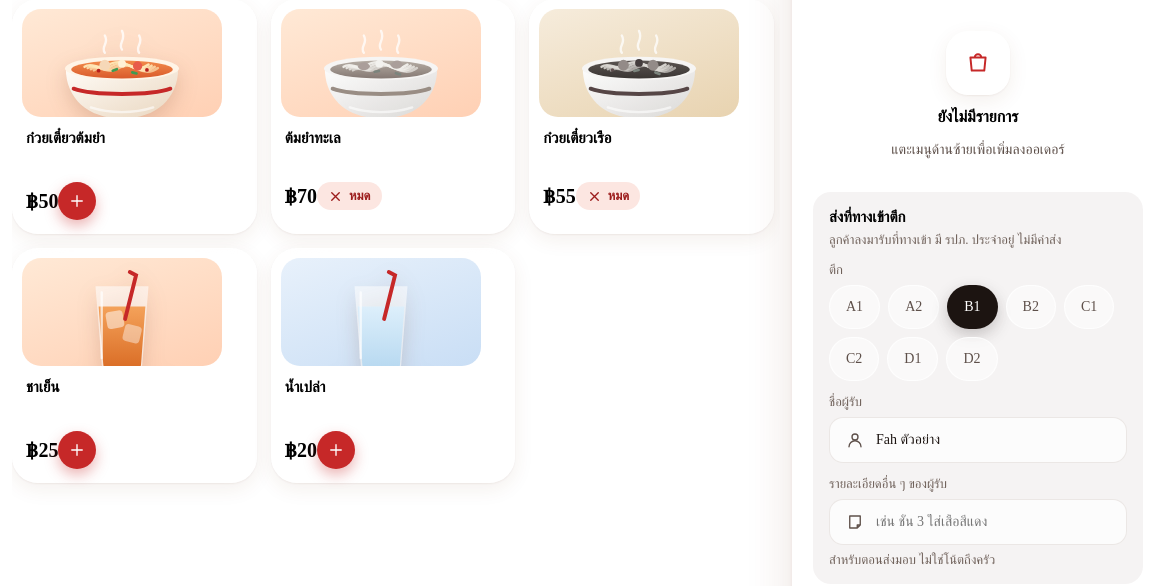
Test case: order entry while offline › when the device cannot save it, says so and keeps the order on screen
This screenshot has width=1164, height=586.
Click the button "ชาเย็น ฿25". click: (134, 366)
box: [12,248,257,483]
(page scrolled)
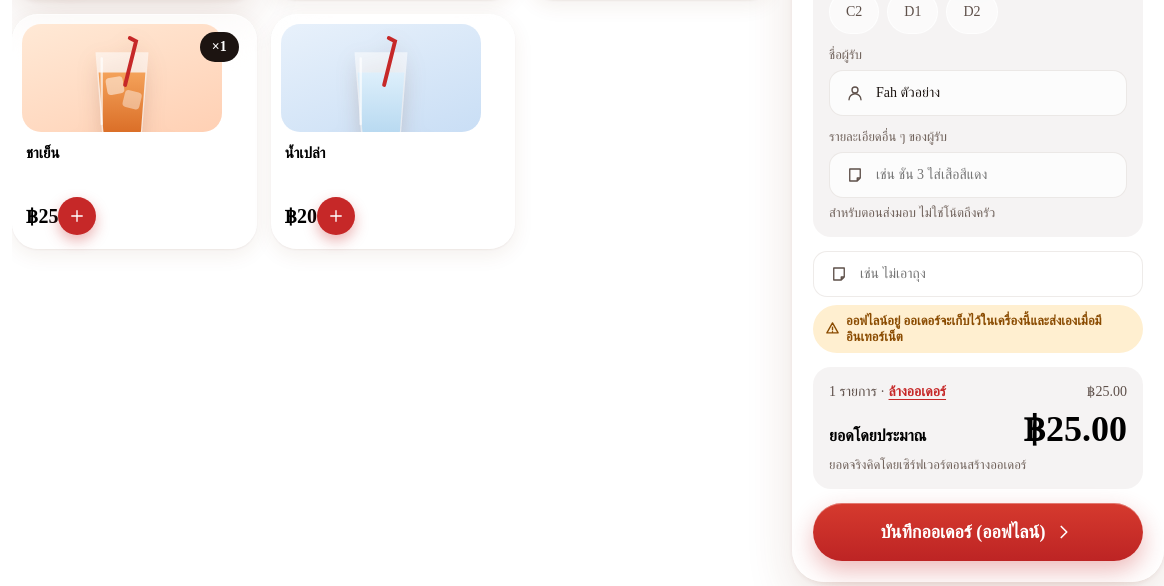
Click the button "บันทึกออเดอร์ (ออฟไลน์)". click: (978, 532)
box: [813,503,1143,561]
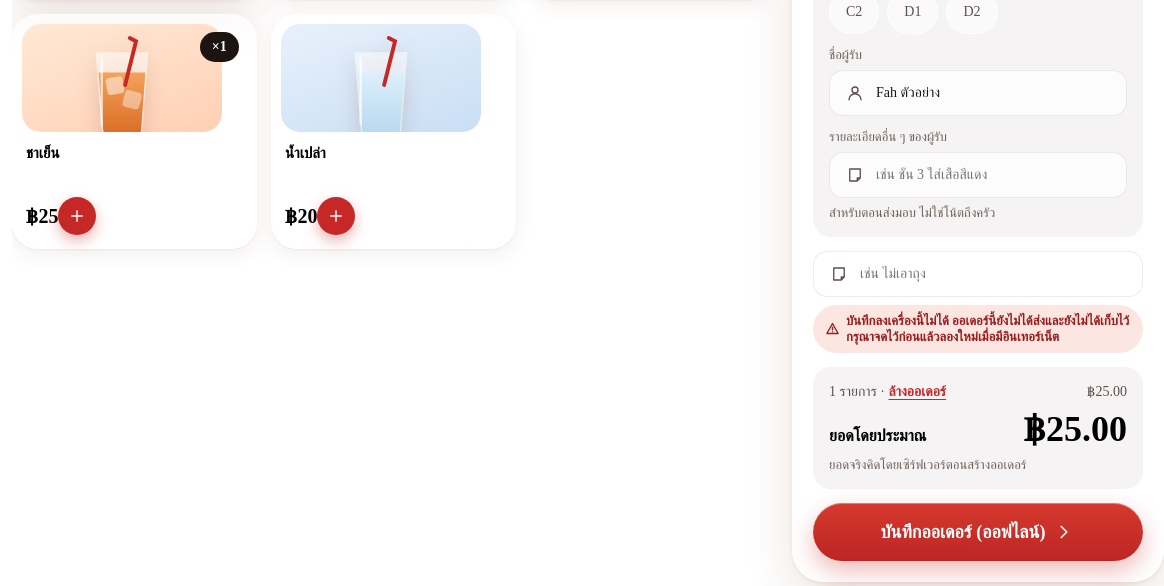
Expected: the text "บันทึกลงเครื่องนี้ไม่ได้ ออเดอร์นี้ยังไม่ได้ส่งและยังไม่ได้เก็บไว้ กรุณาจดไว้ก่อนแล้วลองใหม่เมื่อมีอินเทอร์เน็ต" is shown, [846,313,1129,344]
